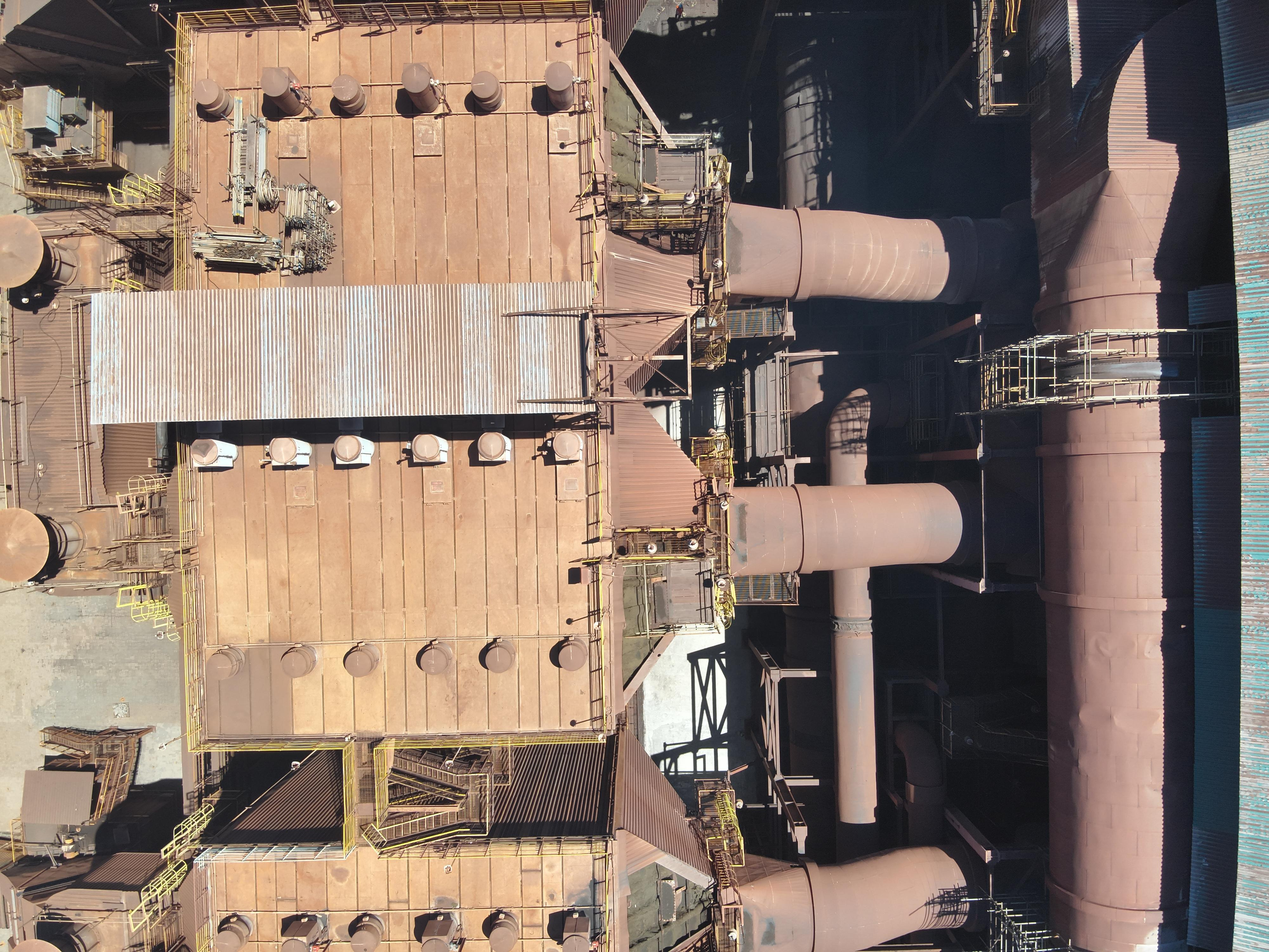Failures: (602, 56, 692, 253), (612, 550, 704, 688), (621, 848, 719, 952)
